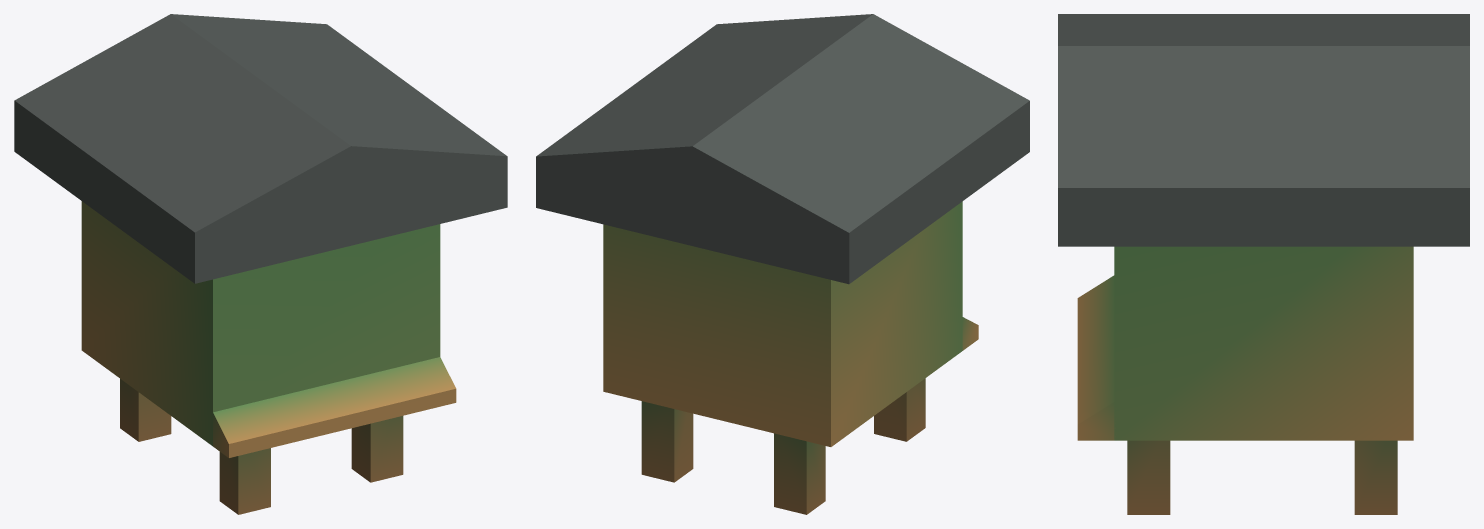
The picture shows the model from 3 angles, left to right: view 1: azimuth 30°, elevation 25°; view 2: azimuth 150°, elevation 25°; view 3: azimuth 270°, elevation 25°; orthographic projection. The views are drawn at different scales.
Visible parts, largest first — view 1: roof, body, landing_ledge, foot_front, foot_front.003, foot_back.003; view 2: roof, body, foot_back, foot_back.003, foot_front.003; view 3: roof, body, landing_ledge, foot_back, foot_front.
Part boxes in pixels (<box>): roof: <box>14,14,507,283</box>; body: <box>81,201,440,446</box>; landing_ledge: <box>213,357,456,457</box>; foot_front: <box>351,416,403,482</box>; foot_front.003: <box>219,448,270,514</box>; foot_back.003: <box>120,379,171,441</box>; roof: <box>536,14,1029,284</box>; body: <box>603,201,962,446</box>; foot_back: <box>641,401,693,482</box>; foot_back.003: <box>774,433,825,514</box>; foot_front.003: <box>874,378,925,441</box>; roof: <box>1058,14,1469,246</box>; body: <box>1114,246,1413,440</box>; landing_ledge: <box>1077,275,1116,440</box>; foot_back: <box>1354,440,1397,514</box>; foot_front: <box>1127,440,1170,514</box>.
Bounding box in the file's own units: 0.44 × 0.499 × 0.44.
